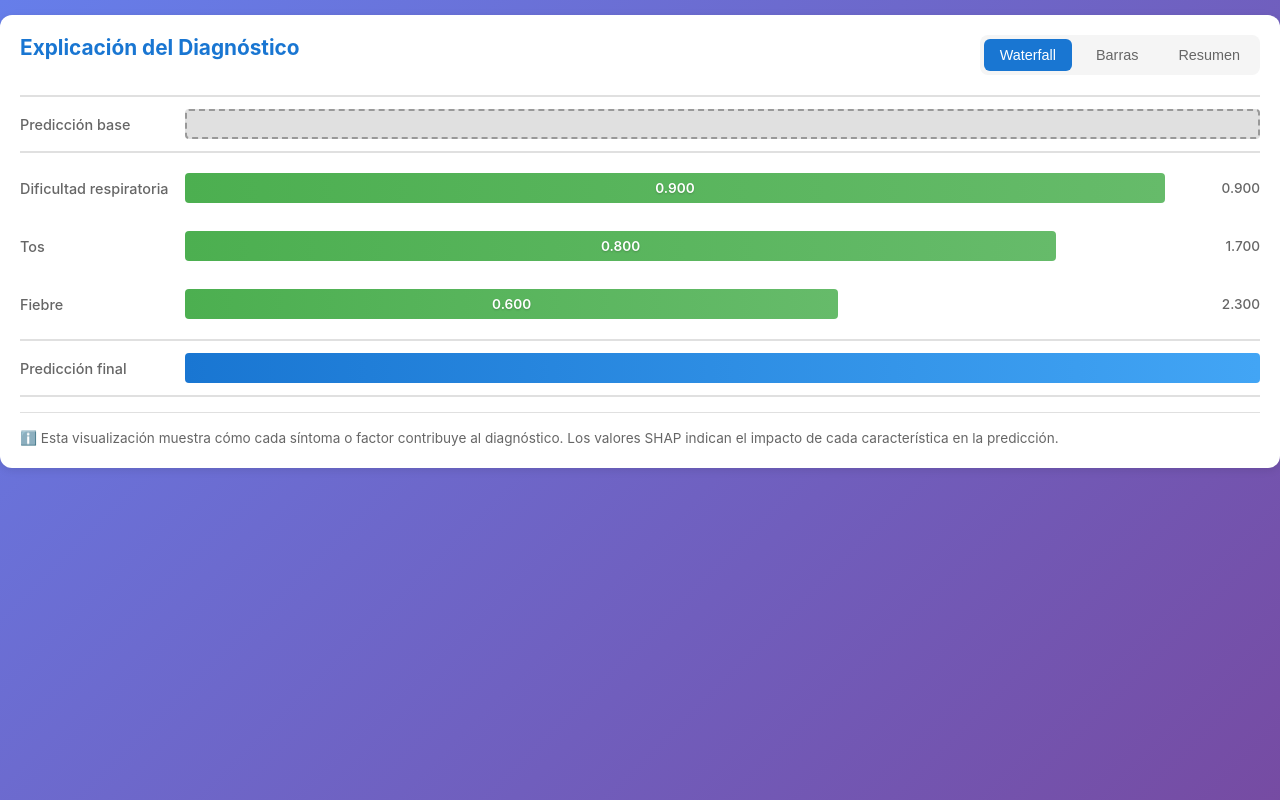
it: SHAPVisualization › should switch to summary view
The width and height of the screenshot is (1280, 800).
Click the button "Resumen" at (1209, 55), box [1162,39,1256,71]
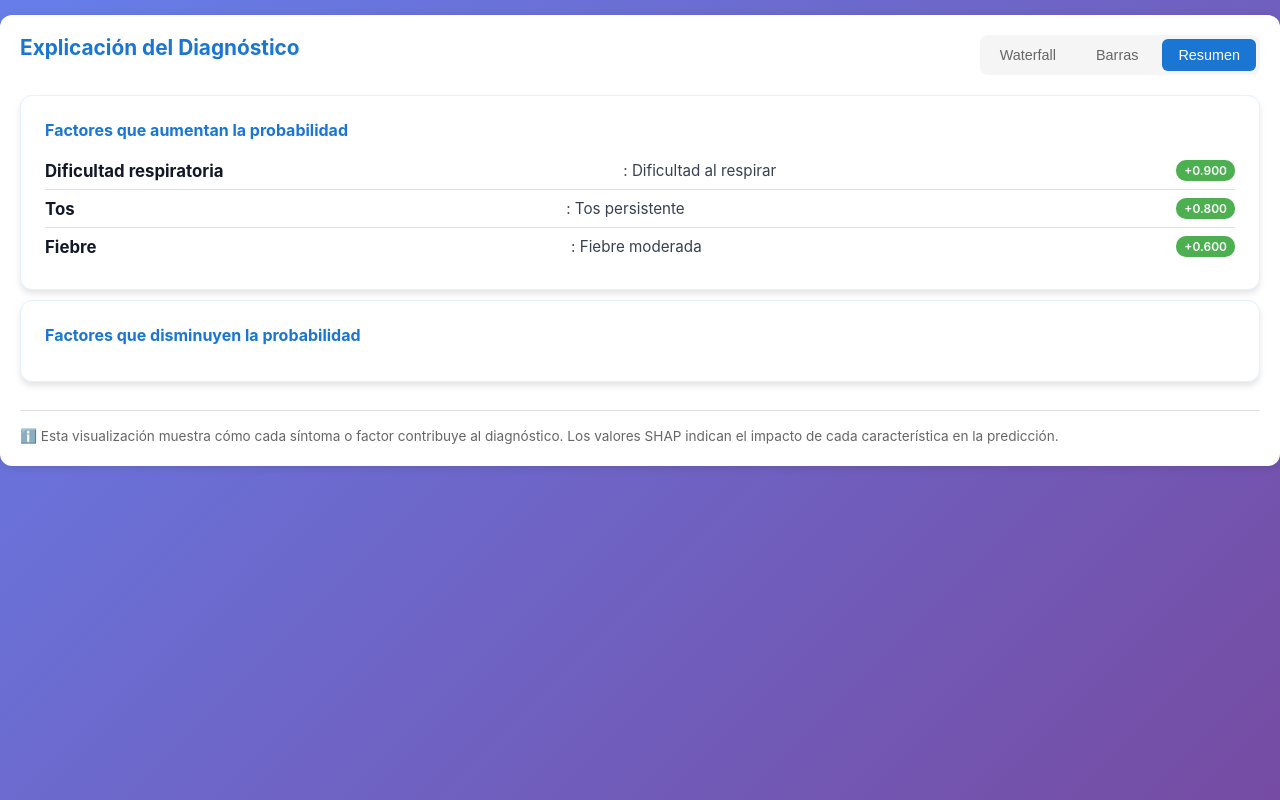
Expected: the button "Resumen" has class "active", [1162,39,1256,71]
